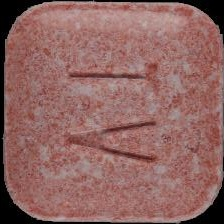68151-4186: (0, 0, 224, 224)
